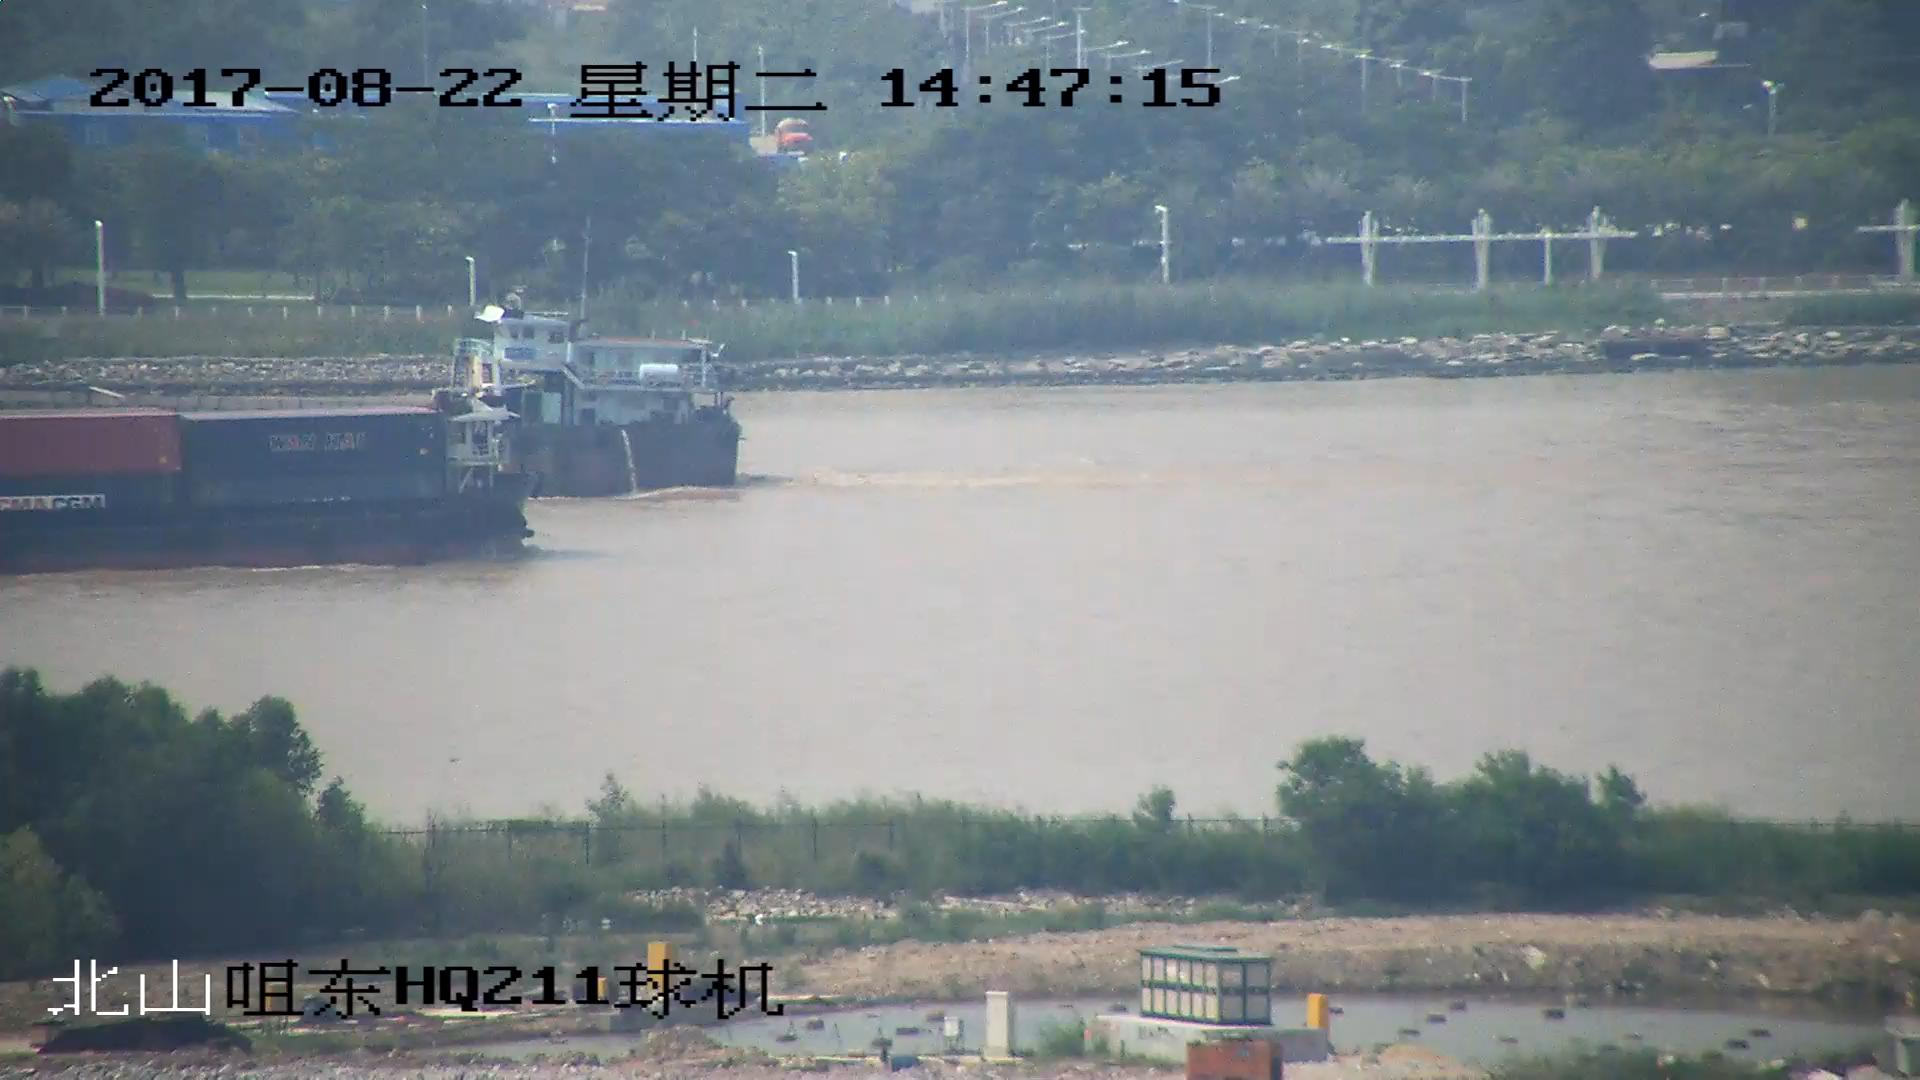bulk cargo carrier: (1, 290, 750, 499)
container ship: (1, 381, 542, 565)
